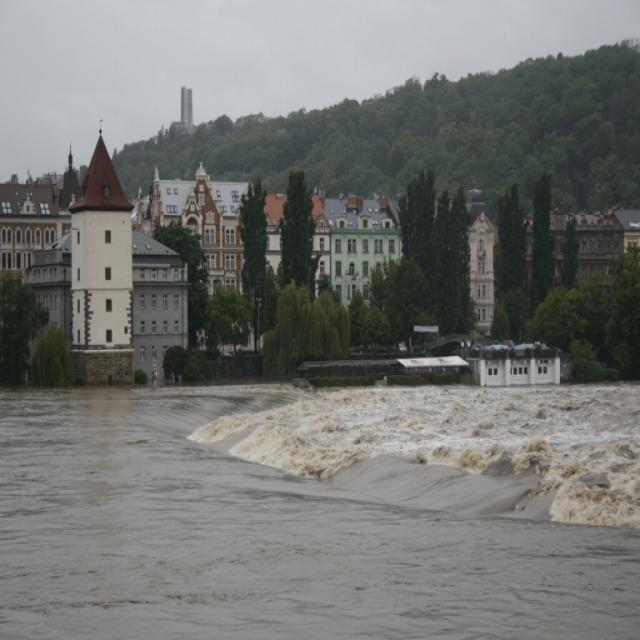flood: (0, 388, 640, 640)
house: (67, 130, 138, 347), (171, 166, 244, 282), (327, 194, 402, 296), (0, 185, 67, 278), (138, 231, 191, 347), (577, 210, 640, 283), (474, 336, 562, 384), (151, 176, 248, 218), (469, 210, 499, 334), (396, 355, 470, 380)
